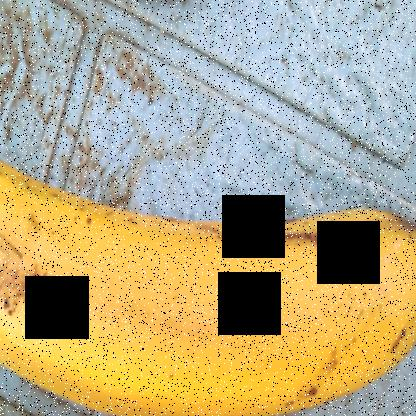ripe: (1, 137, 414, 416)
